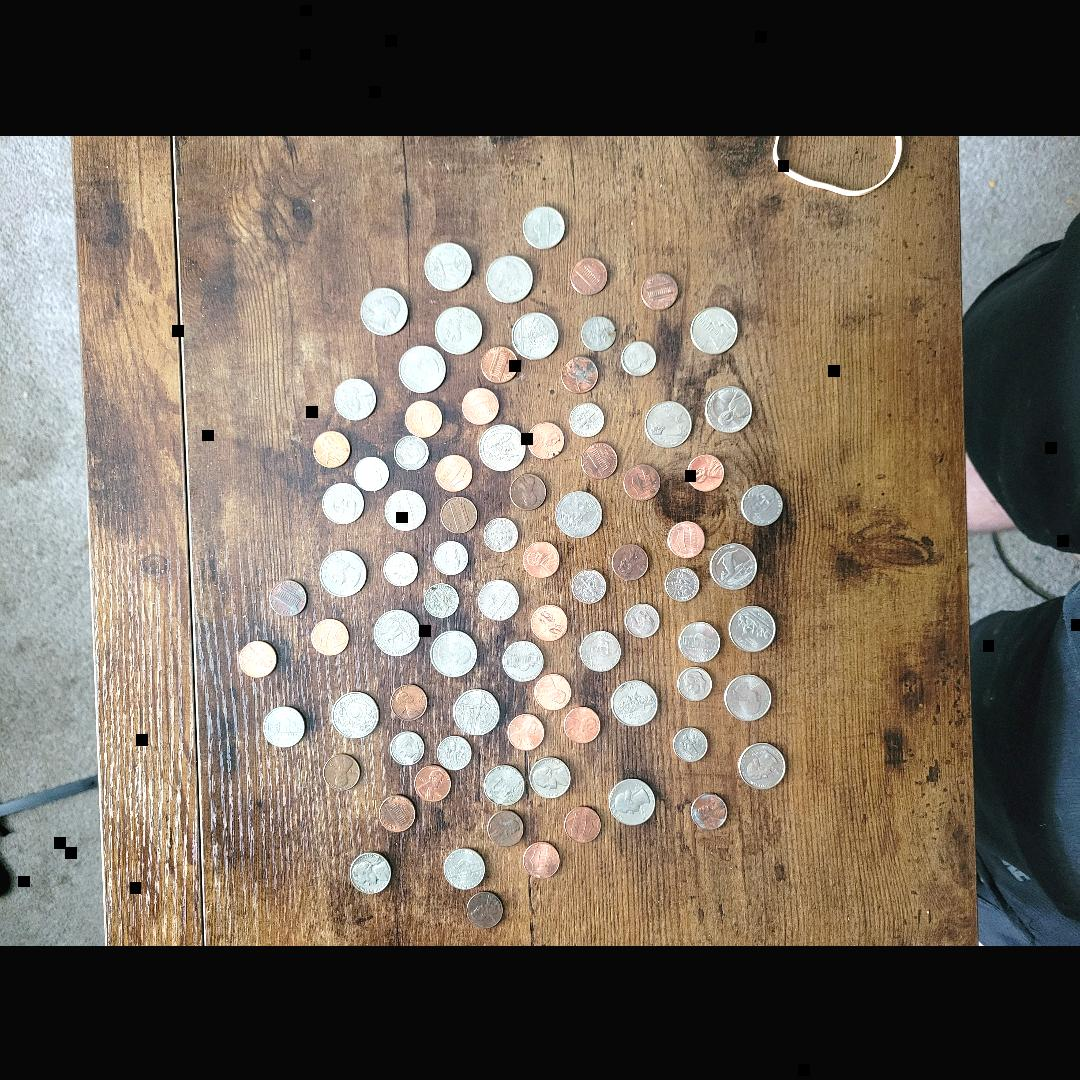Dime: (625, 602, 661, 638), (425, 579, 461, 613), (432, 541, 468, 575), (482, 516, 518, 550), (580, 316, 616, 350), (436, 732, 472, 766), (571, 568, 607, 602), (621, 338, 657, 372), (354, 454, 390, 488), (664, 567, 700, 600), (384, 546, 418, 580), (570, 399, 604, 433), (388, 729, 424, 761), (394, 432, 430, 464), (676, 666, 712, 698), (674, 726, 708, 758)
Nickel: (739, 482, 785, 524), (524, 205, 566, 249), (332, 377, 376, 419), (384, 486, 428, 528), (262, 704, 306, 746), (579, 628, 622, 670), (348, 850, 391, 892), (678, 622, 720, 664), (476, 580, 520, 620), (500, 639, 544, 678), (323, 478, 363, 520), (443, 848, 485, 887), (484, 765, 524, 805), (530, 756, 570, 796)
Penny: (322, 749, 362, 788), (510, 471, 550, 509), (239, 639, 279, 677), (402, 397, 441, 435), (464, 889, 503, 927), (640, 268, 680, 305), (461, 385, 499, 423), (313, 428, 351, 466), (560, 356, 598, 394), (309, 618, 349, 654), (562, 805, 600, 842), (435, 454, 473, 491), (571, 253, 609, 290), (667, 521, 705, 557), (535, 672, 573, 708), (508, 712, 546, 748), (521, 540, 559, 576), (686, 453, 724, 489), (482, 345, 518, 383), (487, 807, 524, 843), (378, 794, 415, 830), (623, 463, 660, 499), (440, 496, 477, 532), (414, 764, 450, 800), (528, 422, 564, 458), (581, 442, 617, 478), (690, 791, 726, 827), (392, 682, 428, 718), (564, 703, 600, 739), (529, 603, 566, 638), (612, 540, 650, 574), (271, 580, 308, 614), (522, 841, 559, 875)
Quarter: (359, 286, 410, 336), (319, 546, 367, 595), (728, 604, 777, 652), (373, 608, 421, 656), (397, 342, 445, 390), (430, 628, 478, 676), (512, 309, 560, 357), (691, 307, 739, 354), (724, 672, 771, 720), (437, 304, 485, 350), (705, 386, 753, 432), (609, 776, 655, 824), (738, 742, 786, 788), (426, 246, 472, 292), (488, 254, 534, 300), (612, 678, 658, 724), (479, 422, 525, 468), (646, 398, 692, 444), (557, 491, 603, 537), (453, 689, 499, 733), (710, 540, 756, 584), (331, 692, 377, 734)
